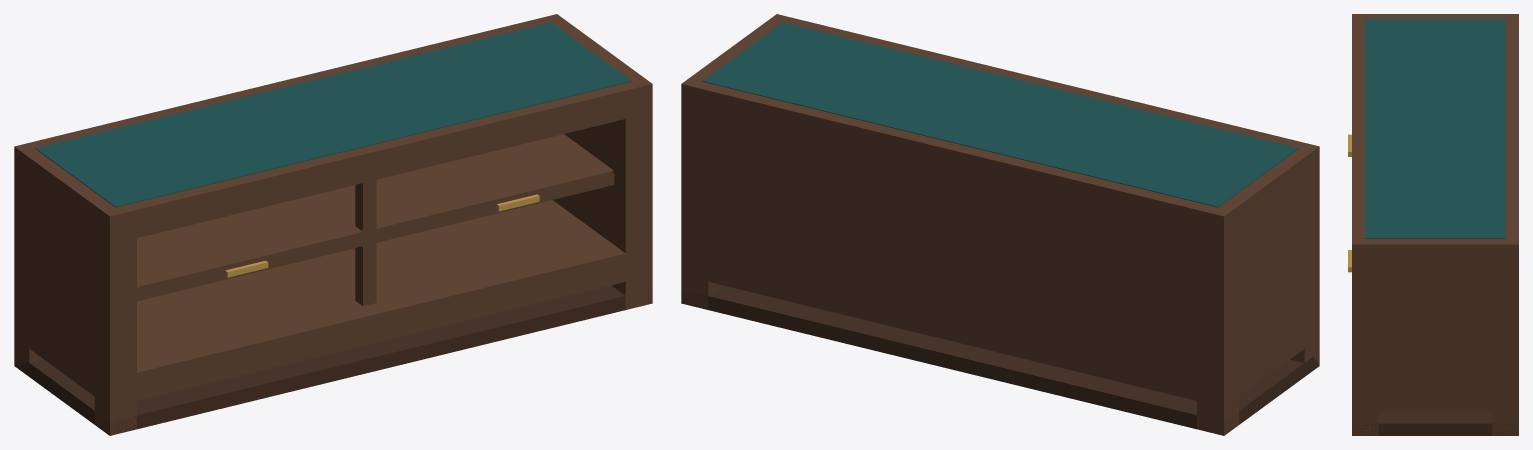
Rendered from cabinetTelevision.glb.
3 views of the same model, side by side, from view 1: azimuth 30°, elevation 25°; view 2: azimuth 150°, elevation 25°; view 3: azimuth 270°, elevation 25° (orthographic). The views are drawn at different scales.
Visible parts, largest first — view 1: cabinetTelevision(Clone); view 2: cabinetTelevision(Clone); view 3: cabinetTelevision(Clone).
Part boxes in pixels (x1,y1,x2,y2): cabinetTelevision(Clone): (14, 14, 652, 435); cabinetTelevision(Clone): (681, 14, 1319, 435); cabinetTelevision(Clone): (1348, 14, 1518, 435).
Size of the model in its own units: 0.8 by 0.31 by 0.25.
